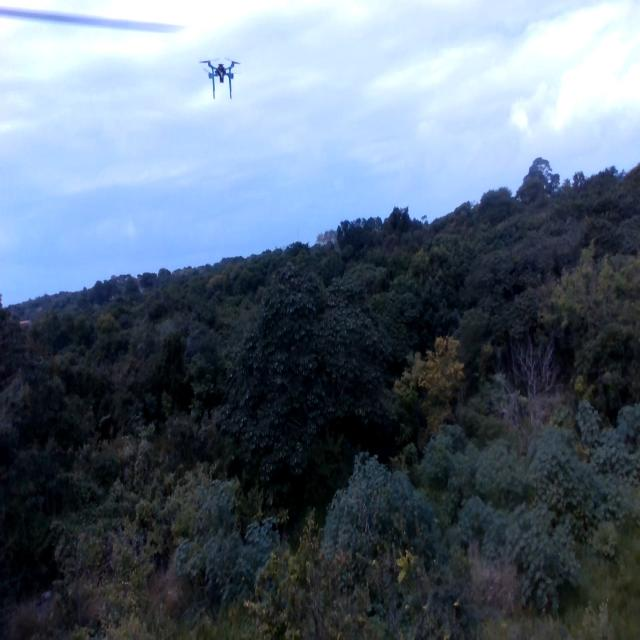-uav-: (199, 44, 246, 112)
